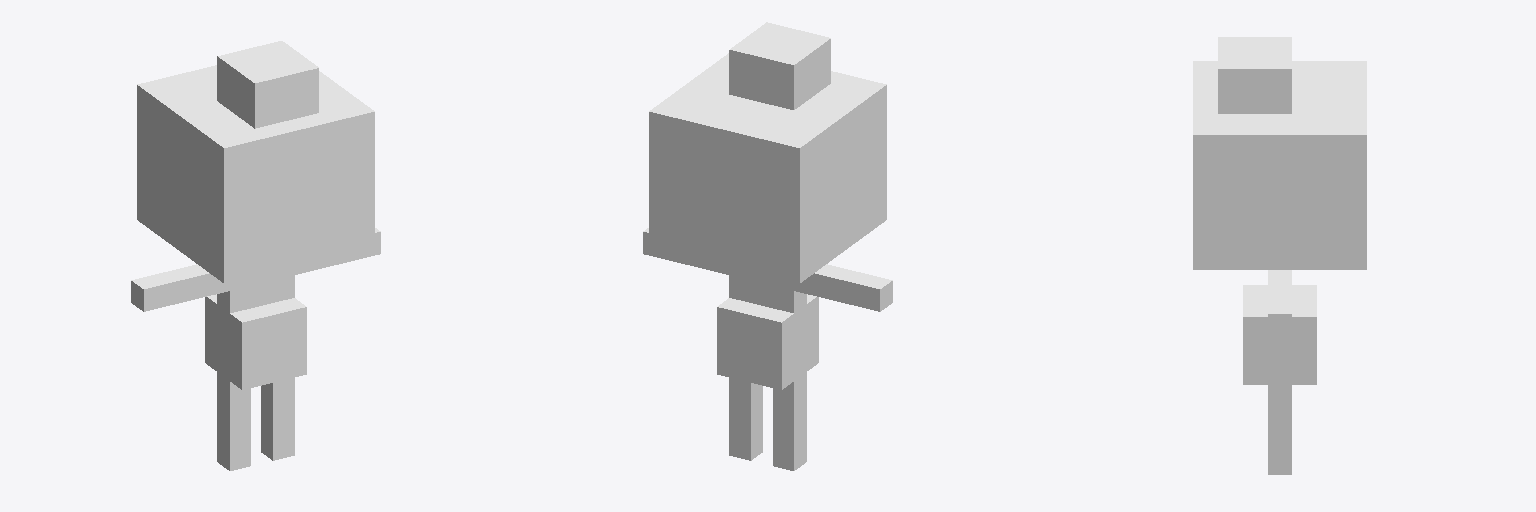
File: BomberMen2.obj
The picture shows the model from 3 angles: view 1: azimuth 30°, elevation 25°; view 2: azimuth 150°, elevation 25°; view 3: azimuth 270°, elevation 25°; orthographic projection.
Visible parts, largest first — view 1: object 1; view 2: object 1; view 3: object 1.
Part boxes in pixels (x1,y1,x2,y2): object 1: (131,41,380,470); object 1: (643,22,892,470); object 1: (1193,37,1366,474).
Bounding box in the file's own units: 1.1 × 1.8 × 0.7.